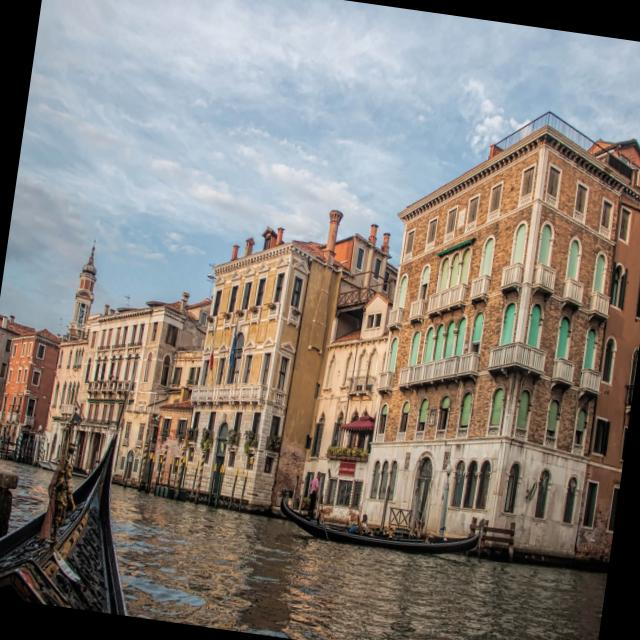boat: (268, 493, 492, 570)
